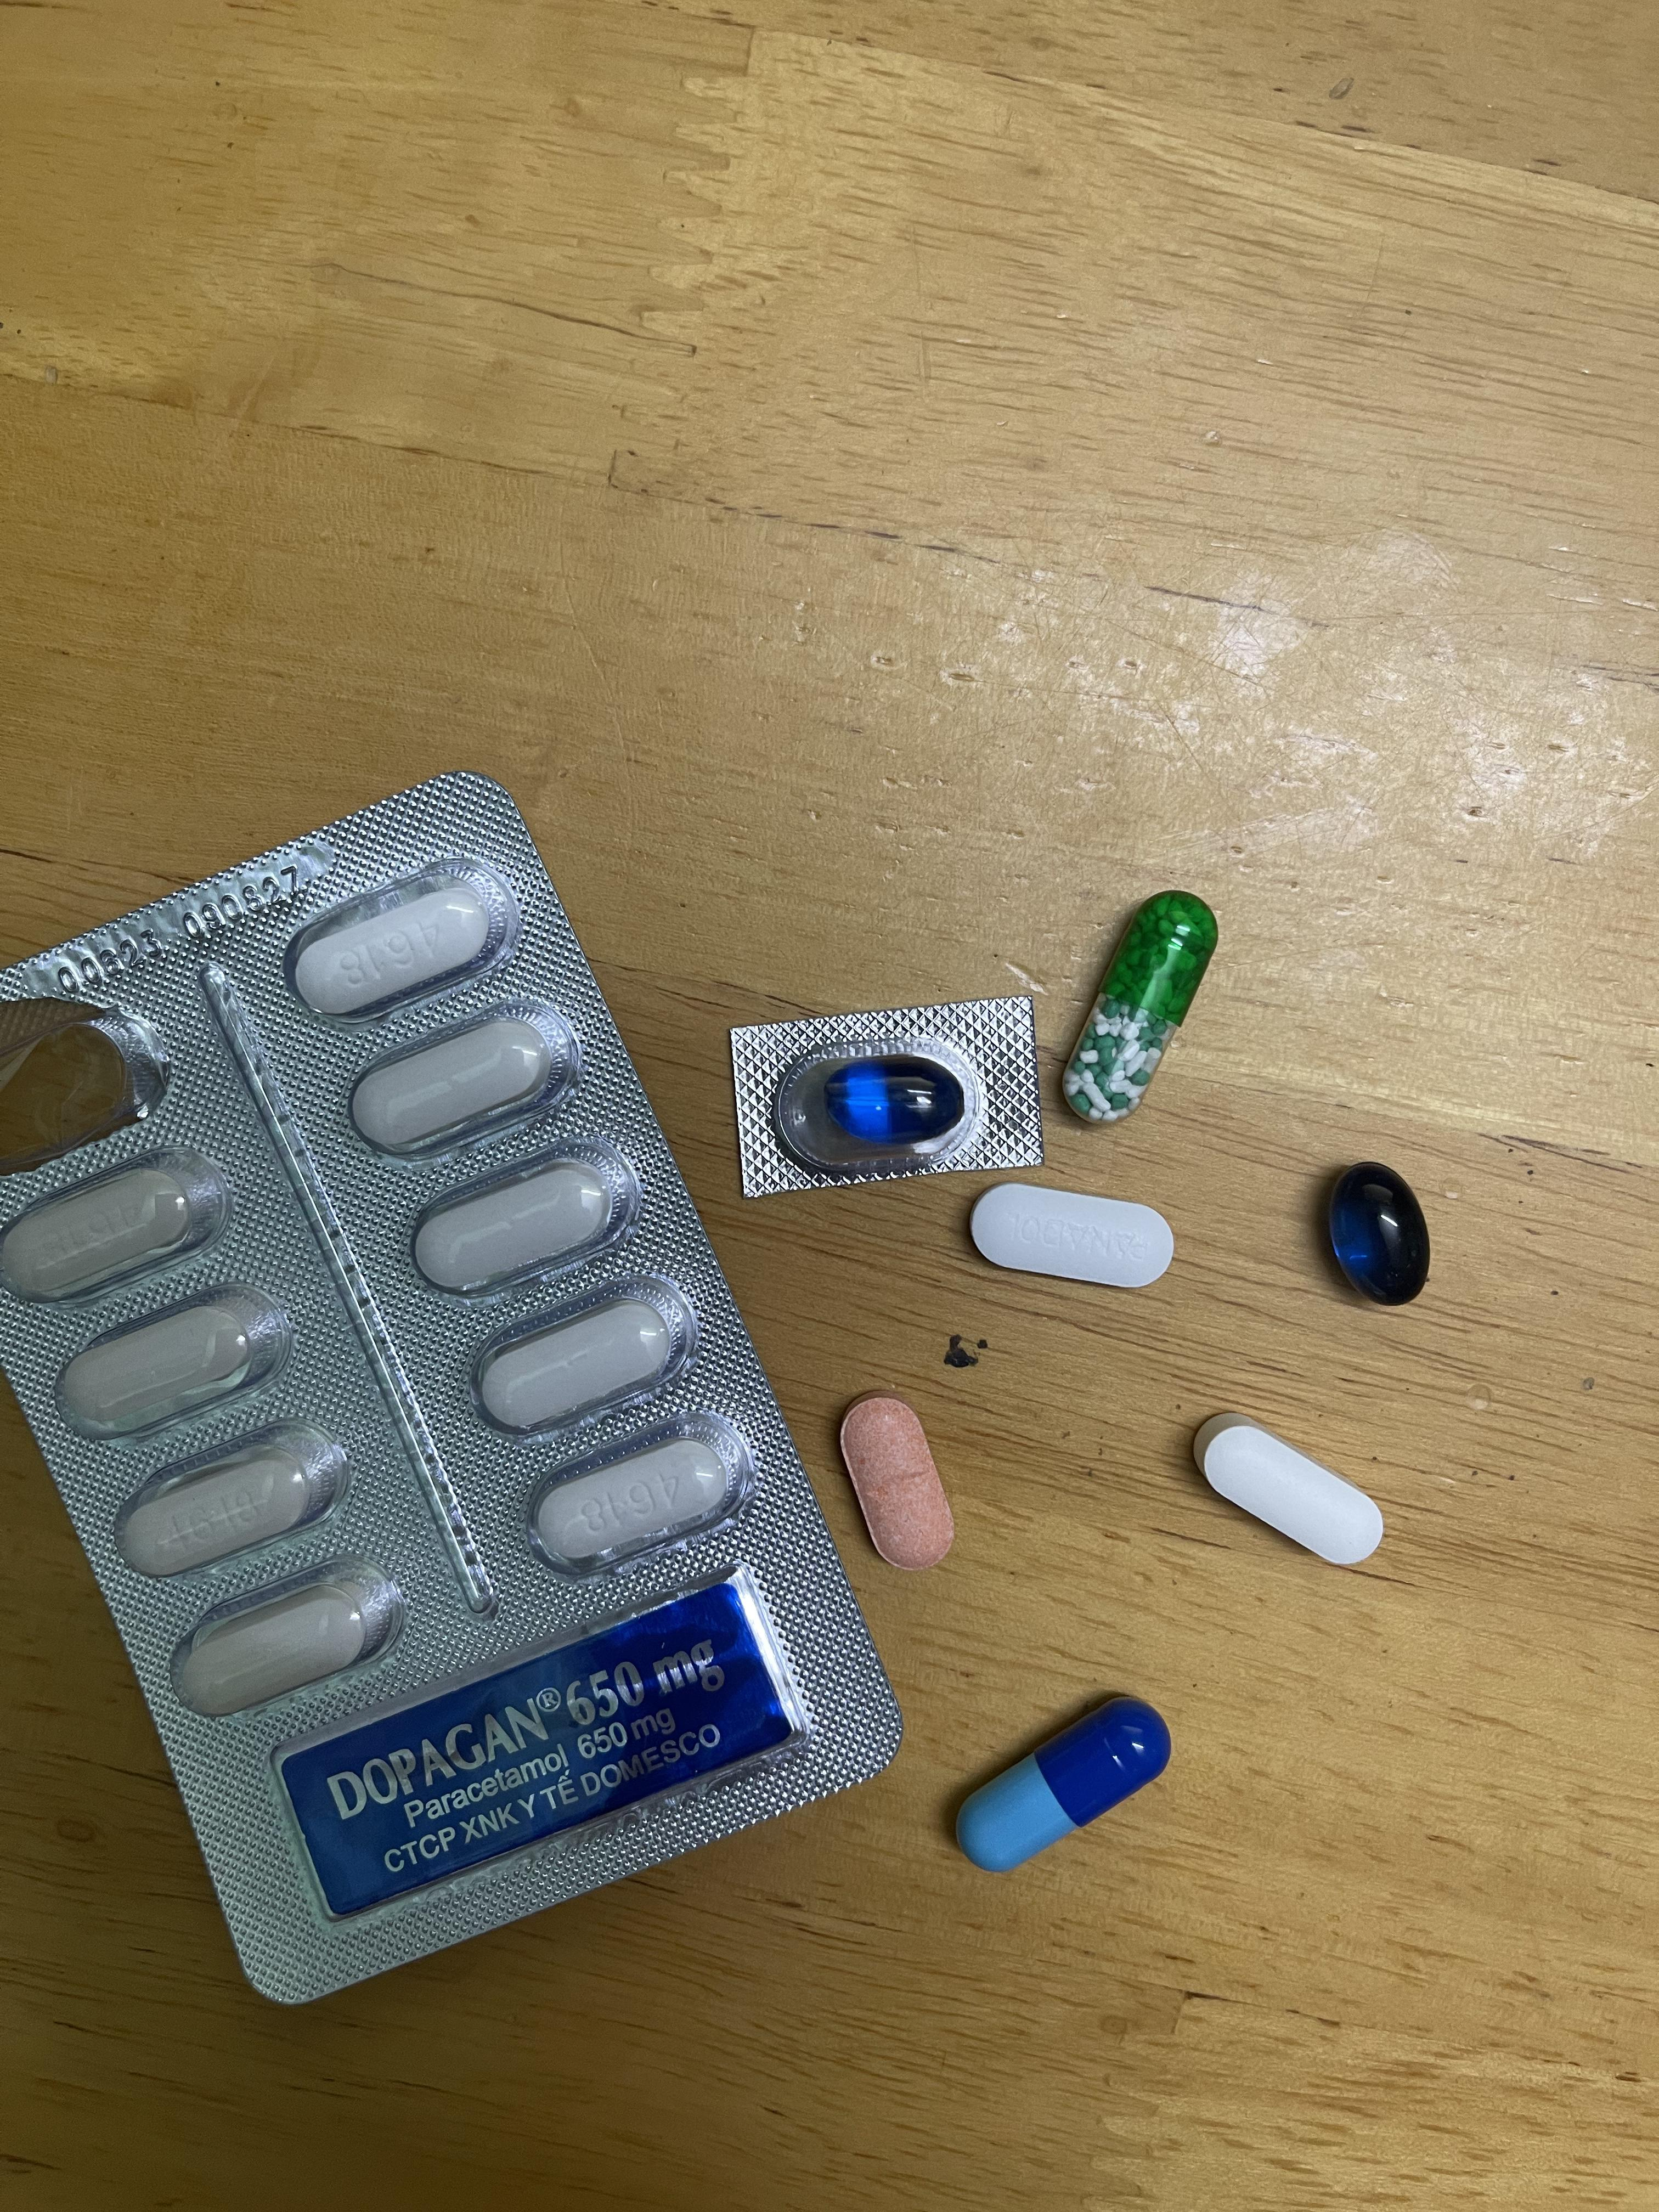Lincomyxin_500mg: (1328, 1162, 1431, 1305), (826, 1057, 967, 1146)
Loratadine_10mg: (836, 1395, 955, 1569)
Paracetamol_350mg: (971, 1183, 1173, 1292)
Paracetamol_500mg: (108, 1418, 347, 1581), (169, 1554, 403, 1716), (63, 1289, 274, 1432), (530, 1432, 734, 1573), (349, 1015, 549, 1153), (295, 880, 491, 1017), (415, 1160, 615, 1292), (476, 1299, 673, 1432), (9, 1162, 200, 1298), (1201, 1423, 1382, 1564)
Paracetamol_650mg: (1066, 895, 1213, 1120)
pill: (960, 1696, 1164, 1871)
